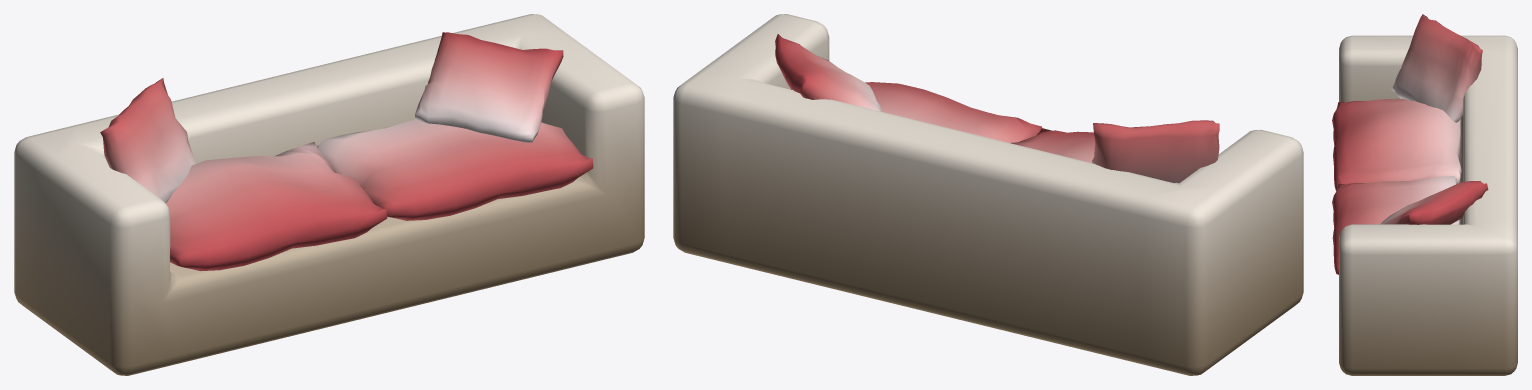
The model's file is Armchair.fbx.
The picture shows the model from 3 angles, left to right: view 1: azimuth 30°, elevation 25°; view 2: azimuth 150°, elevation 25°; view 3: azimuth 270°, elevation 25°; orthographic projection. The views are drawn at different scales.
Parts seen in each view (by area): view 1: Armchair, Armchair_Pillow.002, Armchair_Pillow.003, Armchair_Pillow.001, Armchair_Pillow; view 2: Armchair, Armchair_Pillow, Armchair_Pillow.003, Armchair_Pillow.001, Armchair_Pillow.002; view 3: Armchair, Armchair_Pillow.002, Armchair_Pillow, Armchair_Pillow.003, Armchair_Pillow.001.
Boxes of the visible parts, x1=… form: Armchair: x1=14, y1=14, x2=644, y2=375; Armchair_Pillow.002: x1=166, y1=141, x2=387, y2=271; Armchair_Pillow.003: x1=316, y1=120, x2=593, y2=220; Armchair_Pillow.001: x1=415, y1=32, x2=563, y2=142; Armchair_Pillow: x1=100, y1=78, x2=196, y2=202; Armchair: x1=673, y1=14, x2=1303, y2=375; Armchair_Pillow: x1=1092, y1=120, x2=1219, y2=183; Armchair_Pillow.003: x1=865, y1=82, x2=1042, y2=143; Armchair_Pillow.001: x1=775, y1=34, x2=881, y2=111; Armchair_Pillow.002: x1=1011, y1=128, x2=1094, y2=162; Armchair: x1=1339, y1=35, x2=1517, y2=375; Armchair_Pillow.002: x1=1332, y1=98, x2=1461, y2=191; Armchair_Pillow: x1=1391, y1=14, x2=1482, y2=122; Armchair_Pillow.003: x1=1332, y1=176, x2=1459, y2=274; Armchair_Pillow.001: x1=1380, y1=181, x2=1488, y2=224.
Size of the model in its own units: 2.64 by 1 by 0.979.
